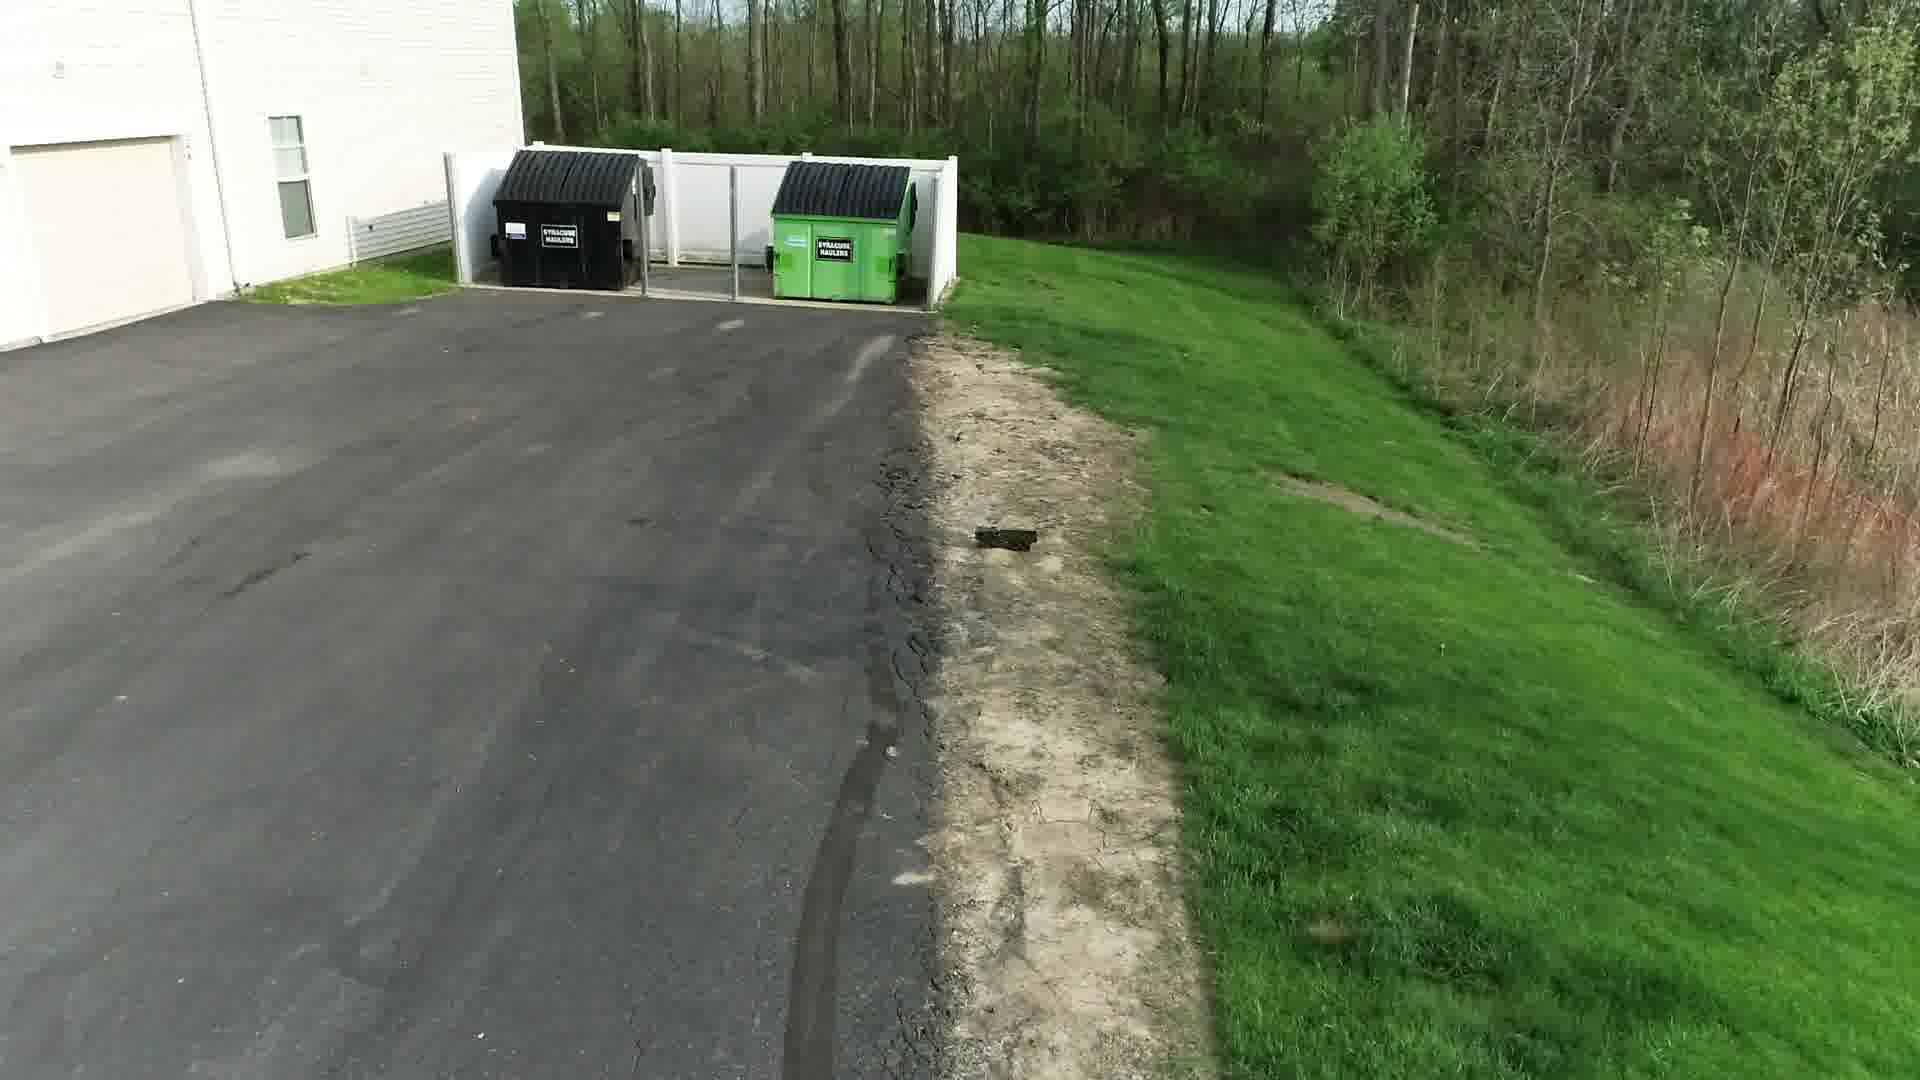transporter9: (967, 524, 1042, 554)
